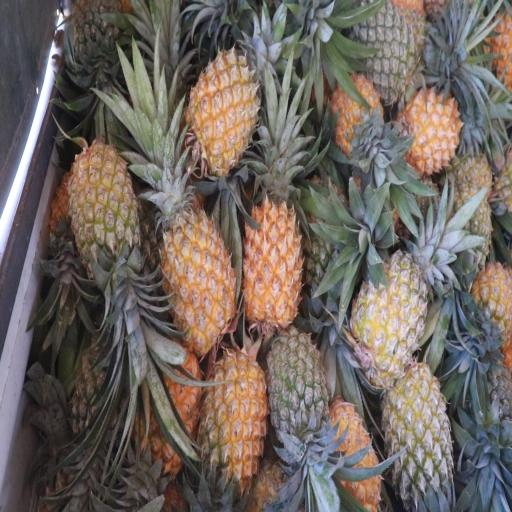------------------------------: (352, 250, 426, 380), (383, 368, 449, 507)
Pineapple - v8 v1: (159, 180, 235, 348), (72, 143, 140, 286), (187, 46, 261, 171), (202, 342, 268, 481), (243, 176, 302, 322), (140, 351, 203, 471), (326, 405, 380, 512), (404, 91, 462, 171), (331, 80, 384, 160), (470, 260, 512, 354)
